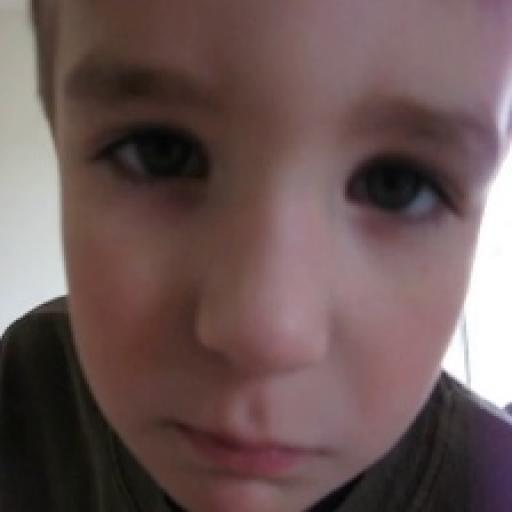Autism: (73, 0, 488, 512)
